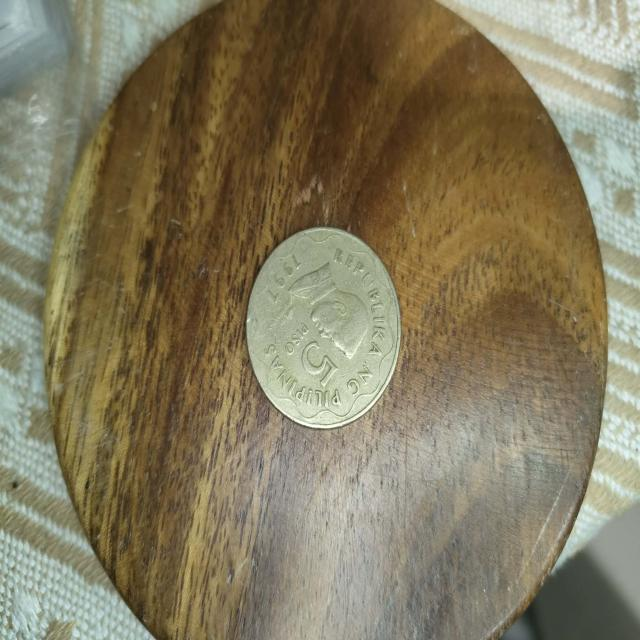5 peso-old: (240, 215, 406, 436)
